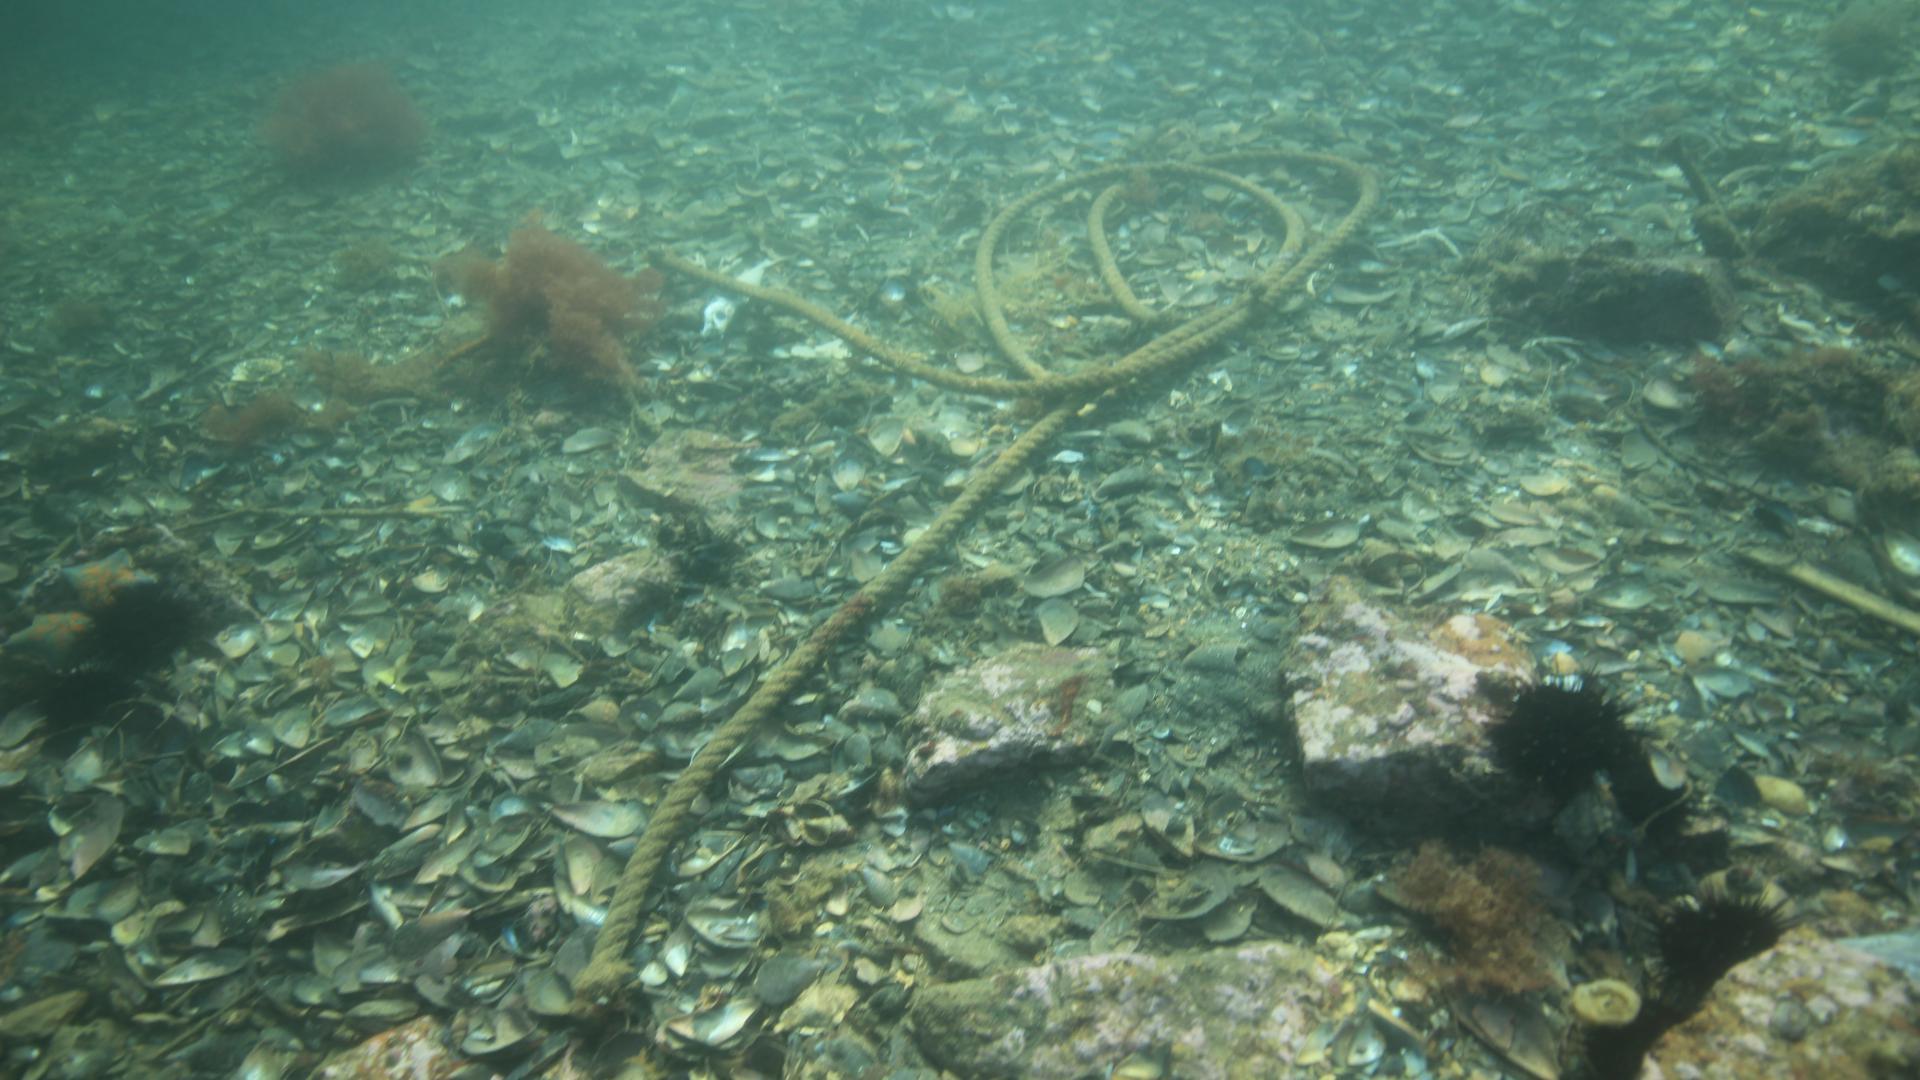bundle of ropes: (574, 138, 1386, 944)
